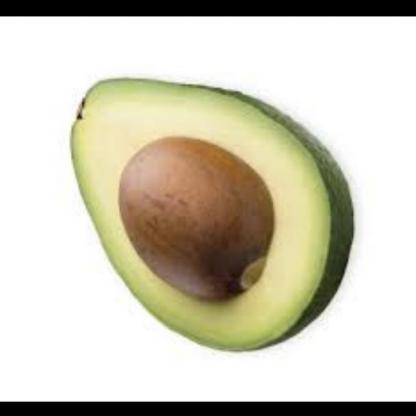avocado: (45, 70, 367, 361)
